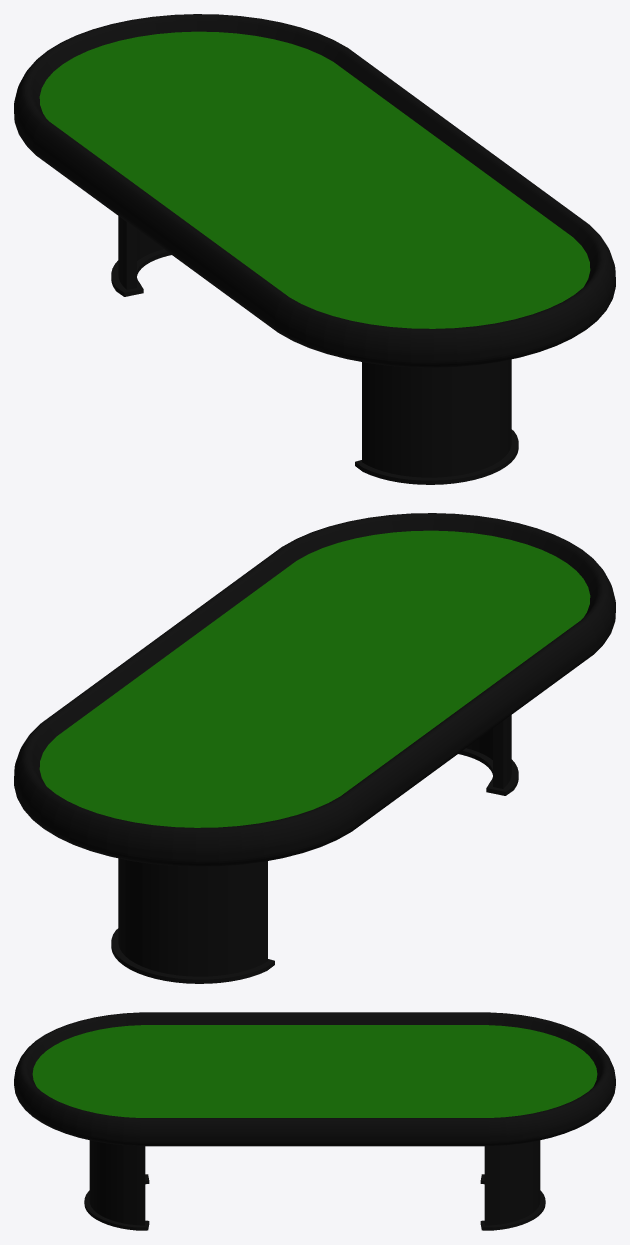
Rendered from Card Table (New).fbx.
3 views of the same model, one above another, from view 1: azimuth 30°, elevation 25°; view 2: azimuth 150°, elevation 25°; view 3: azimuth 270°, elevation 25° (orthographic). The views are drawn at different scales.
Visible parts, largest first — view 1: Circle; view 2: Circle; view 3: Circle.
Boxes of the visible parts, x1,y1,x2,y2 form: Circle: (14,14,615,484); Circle: (14,513,615,983); Circle: (14,1012,615,1230).
Bounding box in the file's own units: 200 × 113 × 447.
